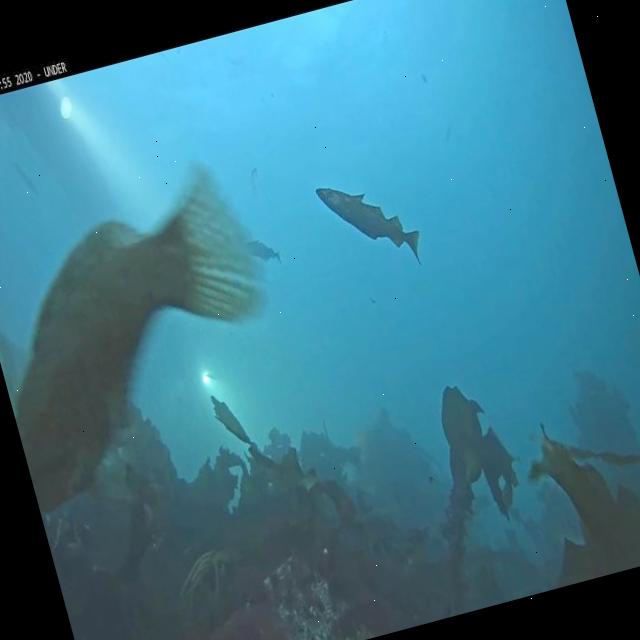fish: (0, 155, 309, 516), (314, 164, 426, 284), (243, 231, 283, 273), (13, 160, 40, 200), (245, 166, 263, 193)
